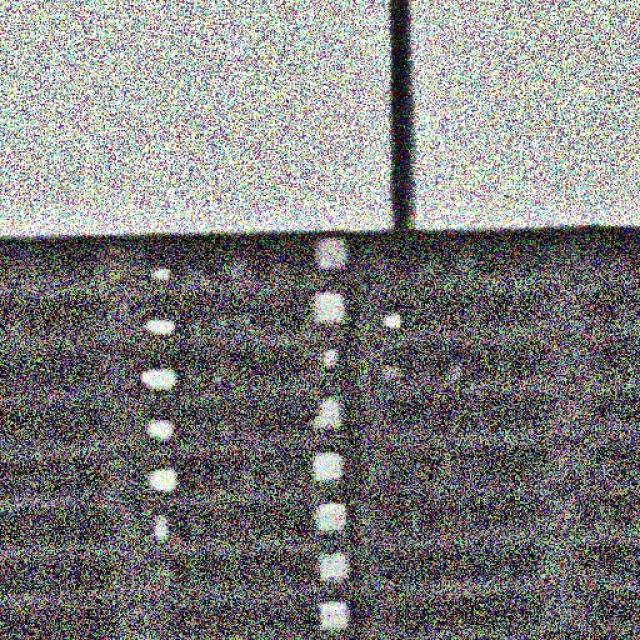igps: (0, 286, 356, 352), (0, 228, 349, 294), (0, 389, 354, 454), (0, 490, 351, 551), (0, 549, 350, 607), (361, 432, 640, 502), (0, 449, 348, 504), (0, 342, 346, 396), (354, 224, 640, 289), (0, 589, 359, 640), (363, 488, 640, 551), (359, 284, 640, 344), (357, 531, 640, 588), (356, 388, 640, 444), (356, 342, 640, 396), (360, 585, 640, 639)
